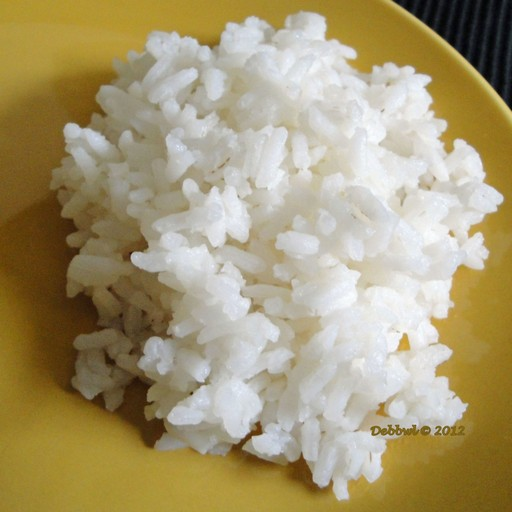rice: (144, 89, 393, 409)
